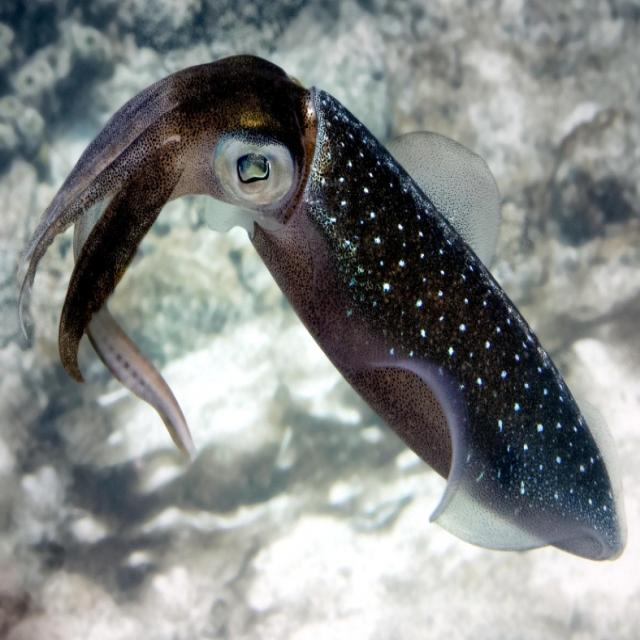SQUID: (18, 25, 630, 581)
